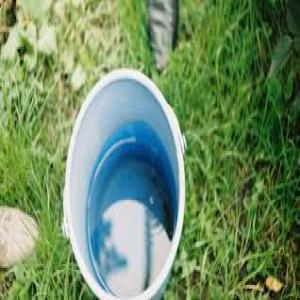Cup: (64, 69, 188, 299)
